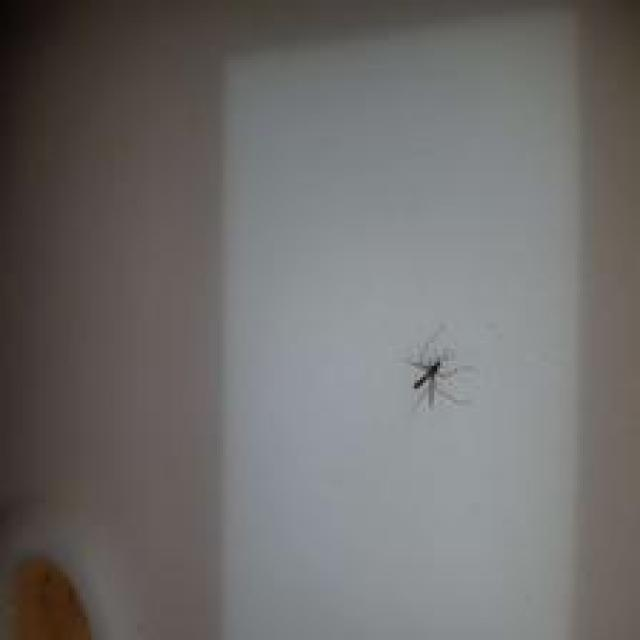Culex: (404, 324, 476, 413)
